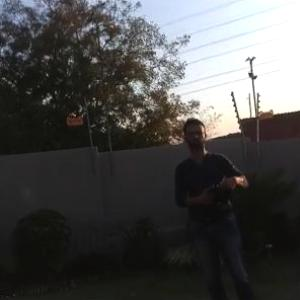follow: (170, 106, 262, 299)
